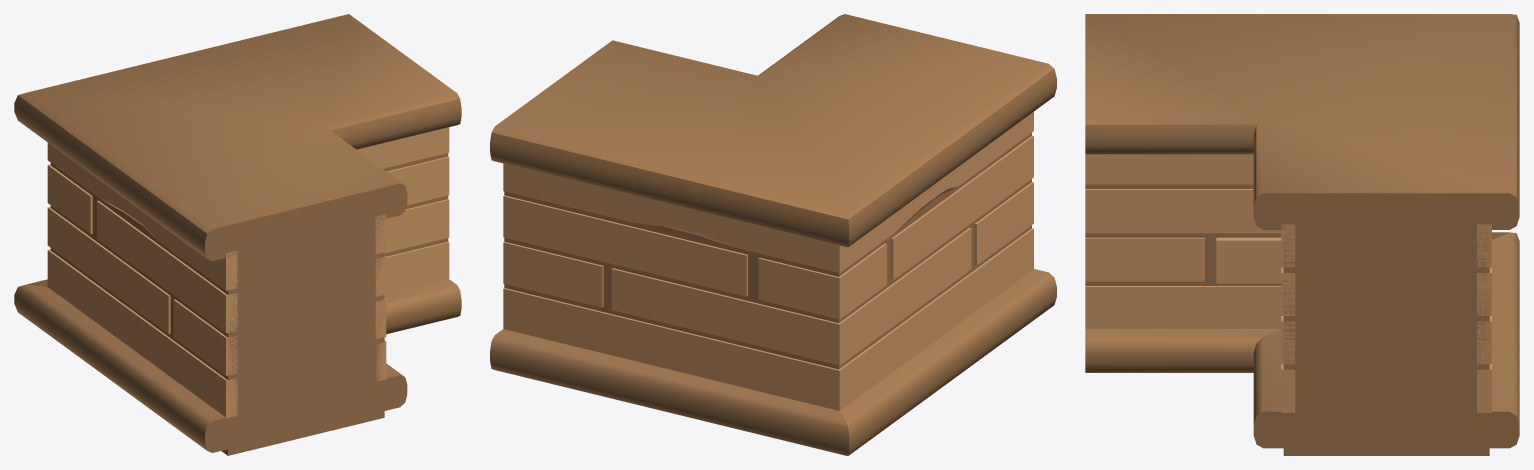
File: counter_corner.glb
3 renders of one model, left to right at view 1: azimuth 30°, elevation 25°; view 2: azimuth 150°, elevation 25°; view 3: azimuth 270°, elevation 25°, orthographic. The views are drawn at different scales.
Parts seen in each view (by area): view 1: Environment_Counter_Corner; view 2: Environment_Counter_Corner; view 3: Environment_Counter_Corner.
Boxes of the visible parts, x1=… form: Environment_Counter_Corner: x1=14, y1=14, x2=461, y2=455; Environment_Counter_Corner: x1=490, y1=14, x2=1056, y2=455; Environment_Counter_Corner: x1=1085, y1=14, x2=1519, y2=455.
Bounding box in the file's own units: 2.88 × 1.92 × 2.88.
Materials: 1 (1 with a texture image).
